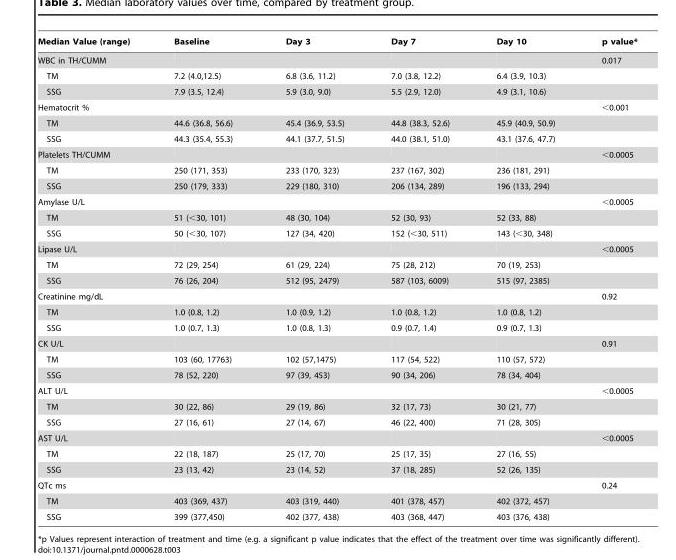table: (37, 36, 636, 521)
table column: (37, 36, 151, 521), (258, 36, 366, 521), (151, 36, 258, 521), (366, 36, 472, 521), (472, 36, 577, 521), (577, 36, 636, 521)
table column header: (37, 36, 636, 50)
table row: (37, 50, 636, 67), (37, 67, 636, 83), (37, 83, 636, 99), (37, 99, 636, 115), (37, 130, 636, 146), (37, 146, 636, 162), (37, 162, 636, 178), (37, 193, 636, 209), (37, 209, 636, 225), (37, 225, 636, 241), (37, 256, 636, 272), (37, 272, 636, 288), (37, 288, 636, 304), (37, 319, 636, 335), (37, 335, 636, 351), (37, 351, 636, 367), (37, 382, 636, 398), (37, 398, 636, 414), (37, 414, 636, 430), (37, 445, 636, 461), (37, 461, 636, 477), (37, 477, 636, 493), (37, 115, 636, 130), (37, 178, 636, 193), (37, 241, 636, 256), (37, 304, 636, 319), (37, 367, 636, 382), (37, 430, 636, 445), (37, 493, 636, 508), (37, 36, 636, 50), (37, 508, 636, 521)
